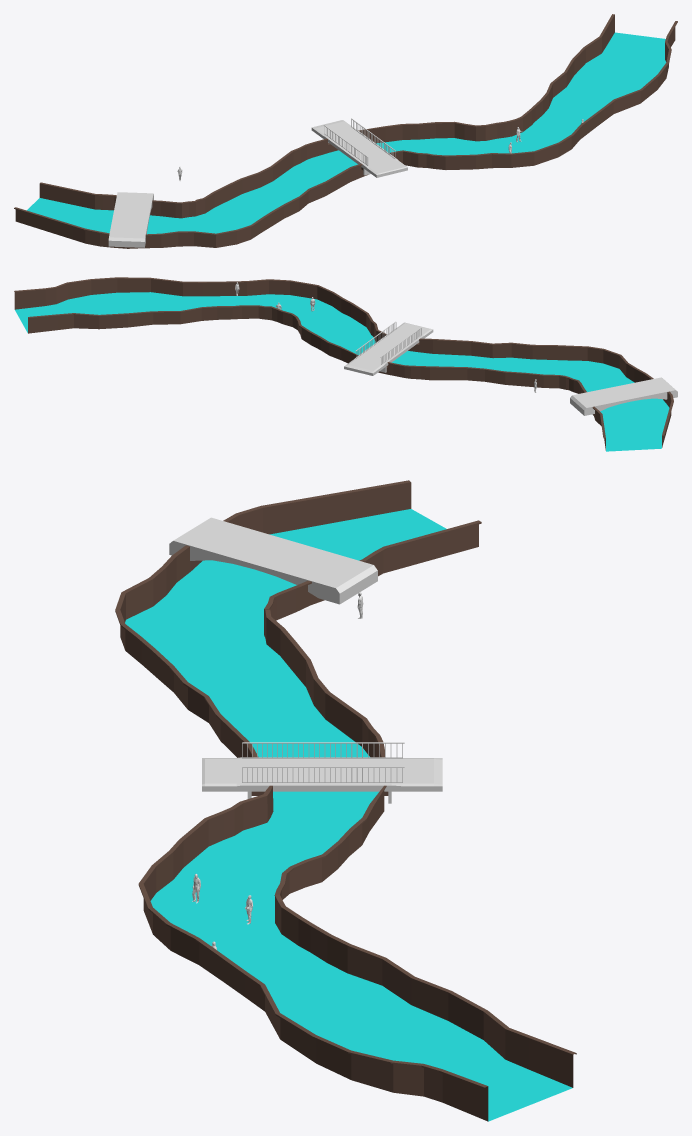
Rendered from rio_azul.fbx.
3 renders of one model, top to bottom at view 1: azimuth 30°, elevation 25°; view 2: azimuth 150°, elevation 25°; view 3: azimuth 270°, elevation 25°, orthographic. The views are drawn at different scales.
Parts seen in each view (by area): view 1: rio.002, ponte central, ponte distante; view 2: rio.002, ponte central, ponte distante; view 3: rio.002, ponte central, ponte distante.
Part boxes in pixels (box(x1,y1,x2,y2)): rio.002: box(14, 14, 677, 248); ponte central: box(311, 118, 407, 177); ponte distante: box(108, 192, 153, 247); rio.002: box(14, 277, 673, 451); ponte central: box(344, 321, 433, 375); ponte distante: box(570, 377, 677, 415); rio.002: box(115, 480, 576, 1121); ponte central: box(202, 742, 442, 803); ponte distante: box(169, 517, 377, 604).
Size of the model in its own units: 8724 by 345 by 2760.
